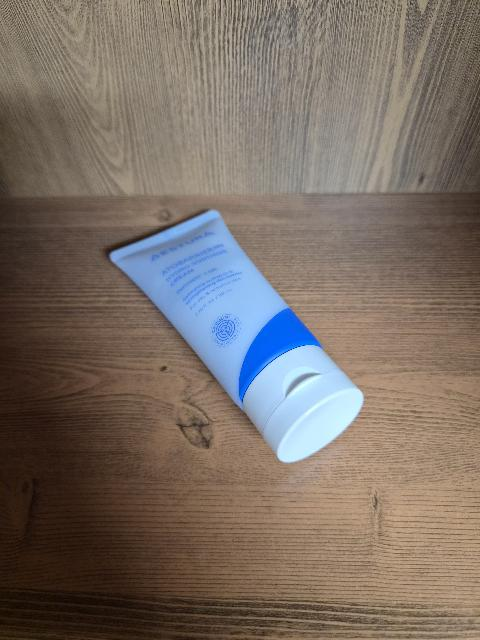handcream: (110, 210, 363, 463)
